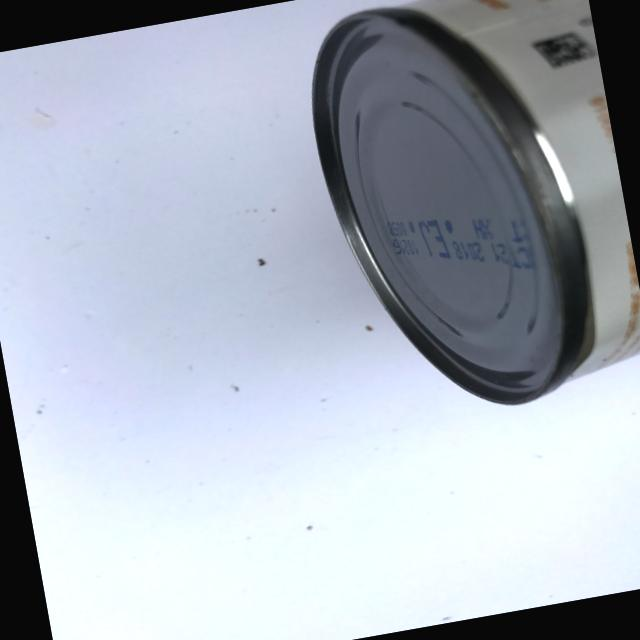Metal: (284, 0, 640, 437)
